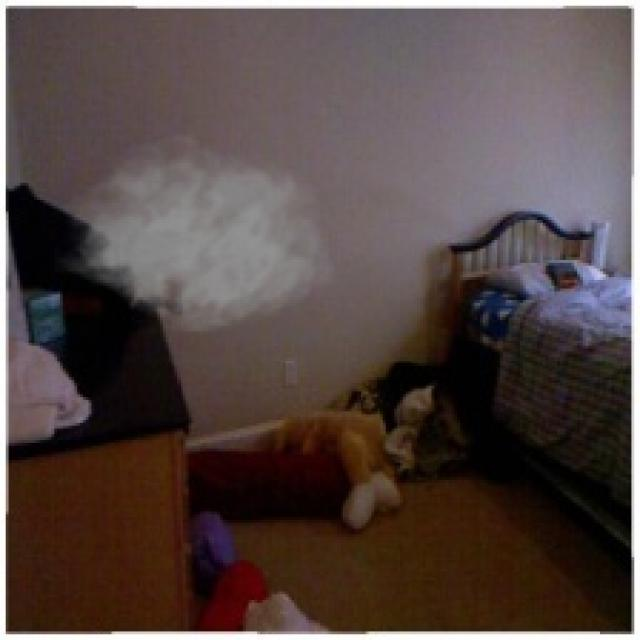smoke: (54, 132, 337, 334)
